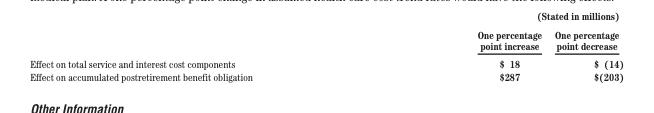table: (29, 28, 622, 81)
table column: (29, 28, 364, 81), (364, 28, 547, 81), (547, 28, 622, 81)
table column header: (29, 28, 622, 53)
table row: (29, 28, 622, 53), (29, 53, 622, 69), (29, 69, 622, 81)
